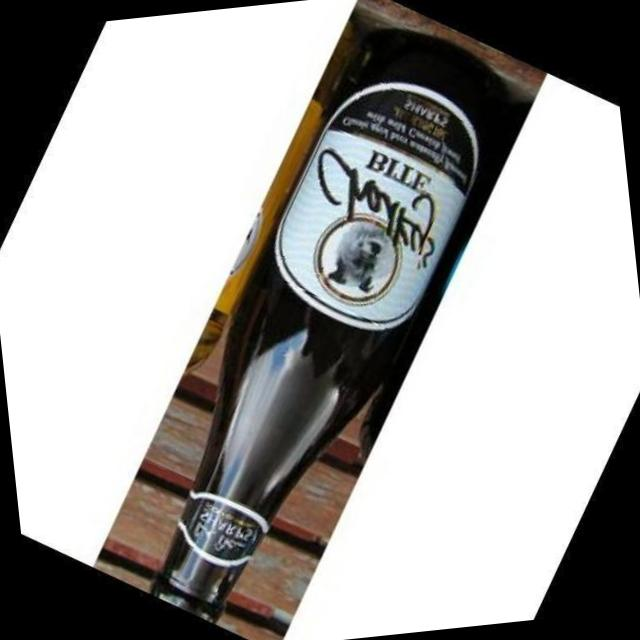BotolKaca: (92, 15, 572, 632)
